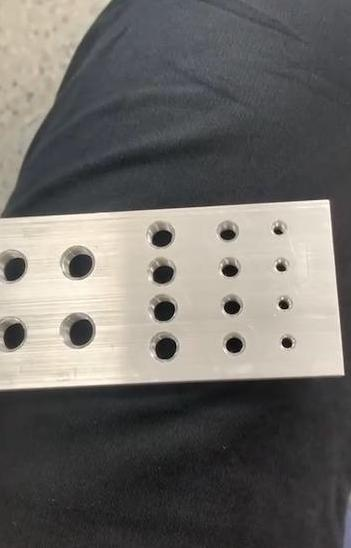hole: (56, 310, 100, 354), (58, 242, 100, 284), (0, 244, 34, 289), (0, 313, 31, 355), (144, 218, 180, 254), (146, 332, 183, 364), (145, 256, 181, 288), (148, 294, 182, 326), (218, 293, 249, 320), (216, 255, 245, 282), (213, 220, 243, 246), (221, 332, 249, 359), (268, 218, 290, 240), (272, 254, 294, 276), (276, 294, 296, 316), (278, 332, 298, 354)
